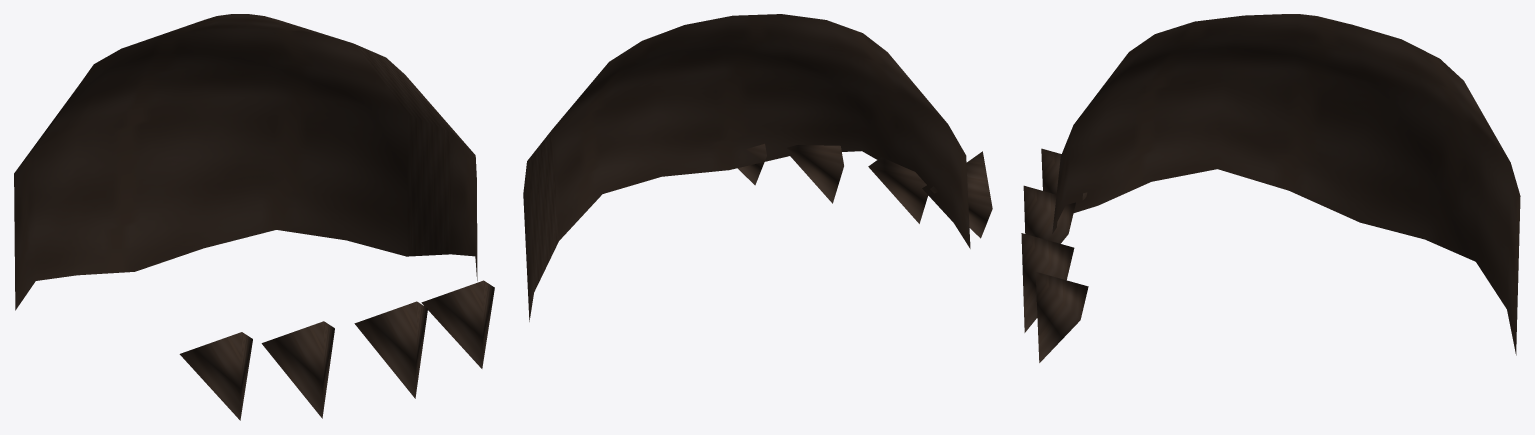
The model's file is hair_short_v01.glb.
3 views of the same model, side by side, from view 1: azimuth 30°, elevation 25°; view 2: azimuth 150°, elevation 25°; view 3: azimuth 270°, elevation 25° (orthographic). The views are drawn at different scales.
Parts seen in each view (by area): view 1: hair_short_v01; view 2: hair_short_v01; view 3: hair_short_v01.
Boxes of the visible parts, x1,y1,x2,y2 form: hair_short_v01: (14,14,494,420); hair_short_v01: (523,14,992,321); hair_short_v01: (1021,14,1520,362).
Bounding box in the file's own units: 0.2222 × 0.1688 × 0.2316.
Materials: 1 (1 with a texture image).
